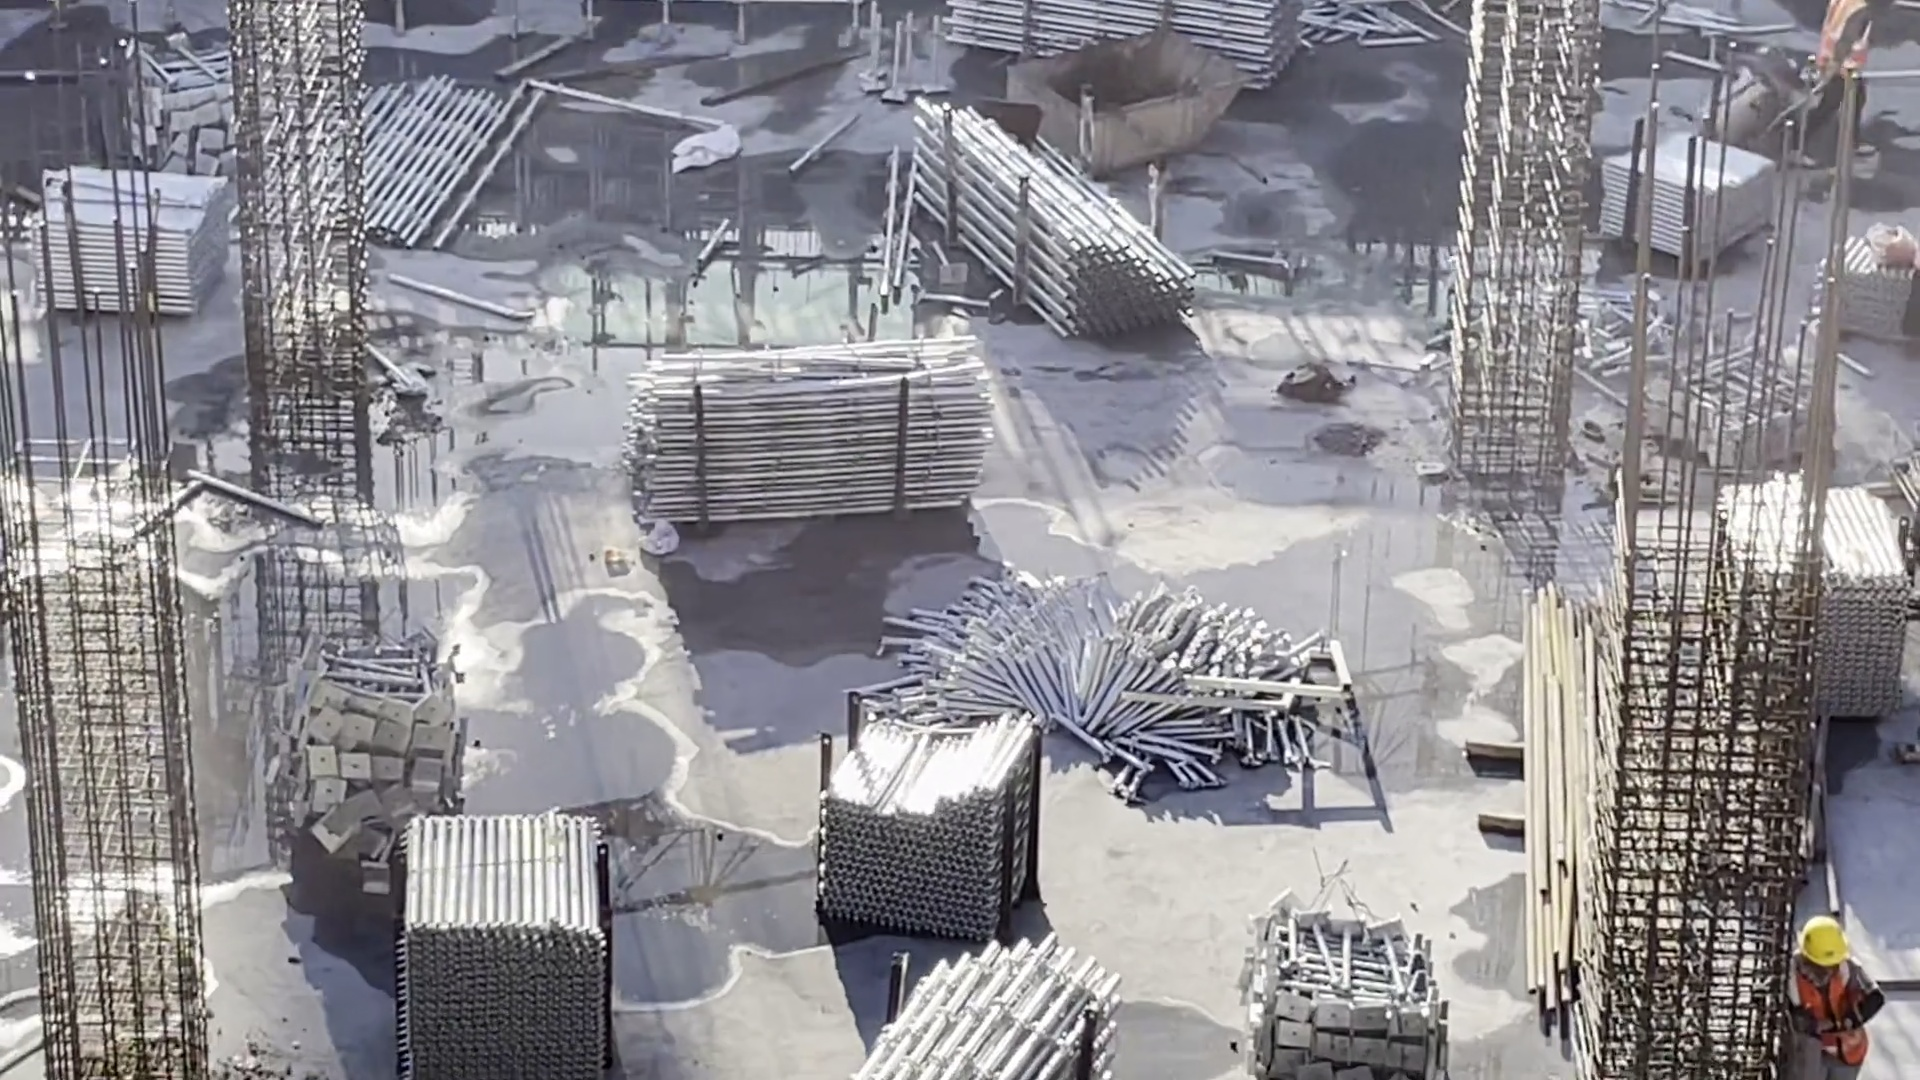helmet: (1785, 919, 1848, 975)
hopper: (1008, 26, 1238, 183)
person: (1762, 915, 1878, 1080)
scaffold: (891, 556, 1343, 802), (615, 340, 988, 543), (381, 794, 642, 1080), (904, 107, 1186, 341), (288, 57, 564, 256), (257, 633, 496, 847), (819, 688, 1029, 931), (1713, 487, 1909, 740), (1243, 888, 1457, 1080), (848, 938, 1114, 1080), (30, 165, 256, 330), (1615, 314, 1837, 470), (925, 1, 1324, 87), (1591, 121, 1792, 273), (130, 51, 261, 197), (1813, 233, 1920, 343)
vest: (1787, 975, 1879, 1058)
